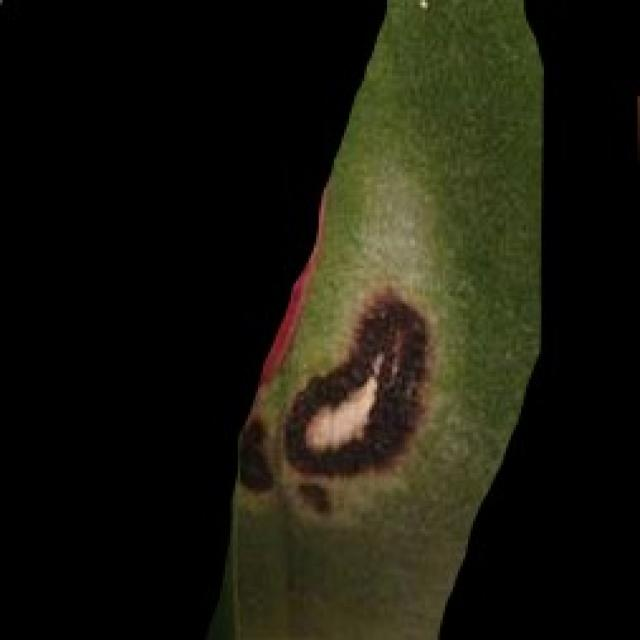mite: (220, 268, 476, 536), (233, 412, 334, 519), (235, 415, 276, 493), (291, 478, 331, 516), (405, 0, 440, 15), (412, 0, 433, 13)
sunburn: (276, 286, 438, 483)
